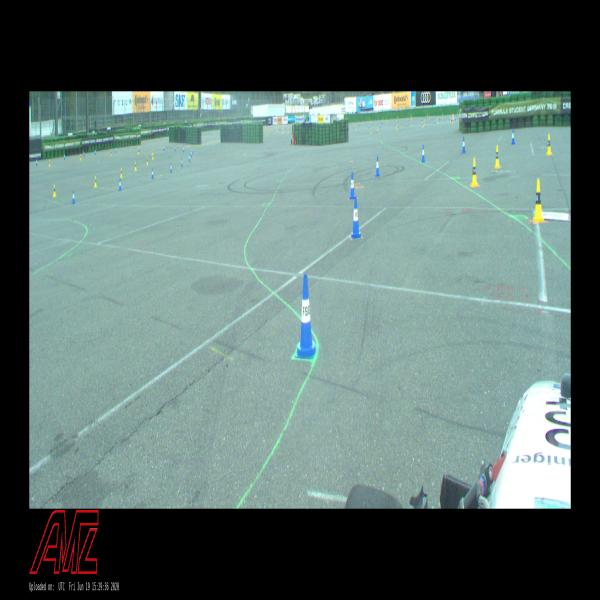blue_cone: (295, 273, 318, 359), (351, 196, 362, 238), (349, 171, 357, 199), (375, 156, 380, 176), (421, 145, 425, 162), (511, 128, 515, 145), (72, 191, 76, 204), (118, 178, 122, 191), (462, 137, 465, 153), (152, 168, 154, 179), (170, 162, 172, 173), (181, 158, 183, 167), (189, 153, 190, 162), (183, 145, 184, 152)
yellow_cone: (532, 179, 544, 222), (470, 158, 478, 186), (494, 145, 501, 168), (546, 134, 552, 155), (94, 176, 98, 187), (53, 184, 56, 197), (120, 168, 123, 178), (135, 162, 137, 171), (152, 152, 154, 160), (146, 157, 148, 165), (152, 148, 153, 156)
